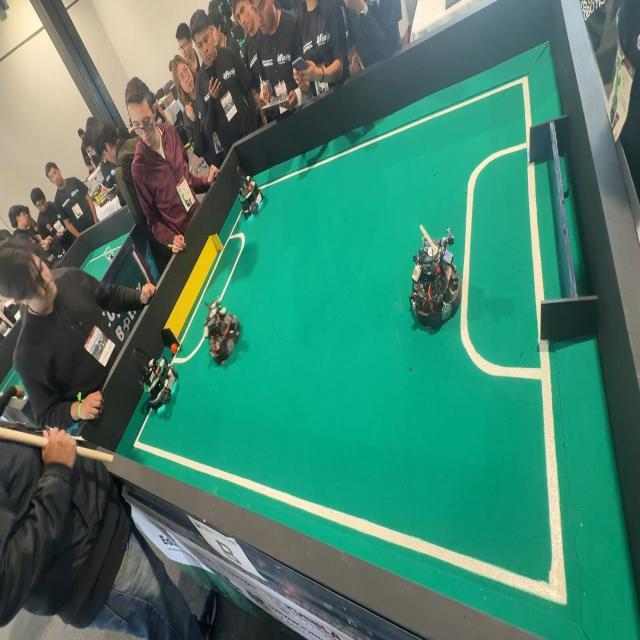Robot: (409, 213, 466, 340), (136, 346, 176, 416), (205, 304, 247, 370), (236, 168, 264, 223)
